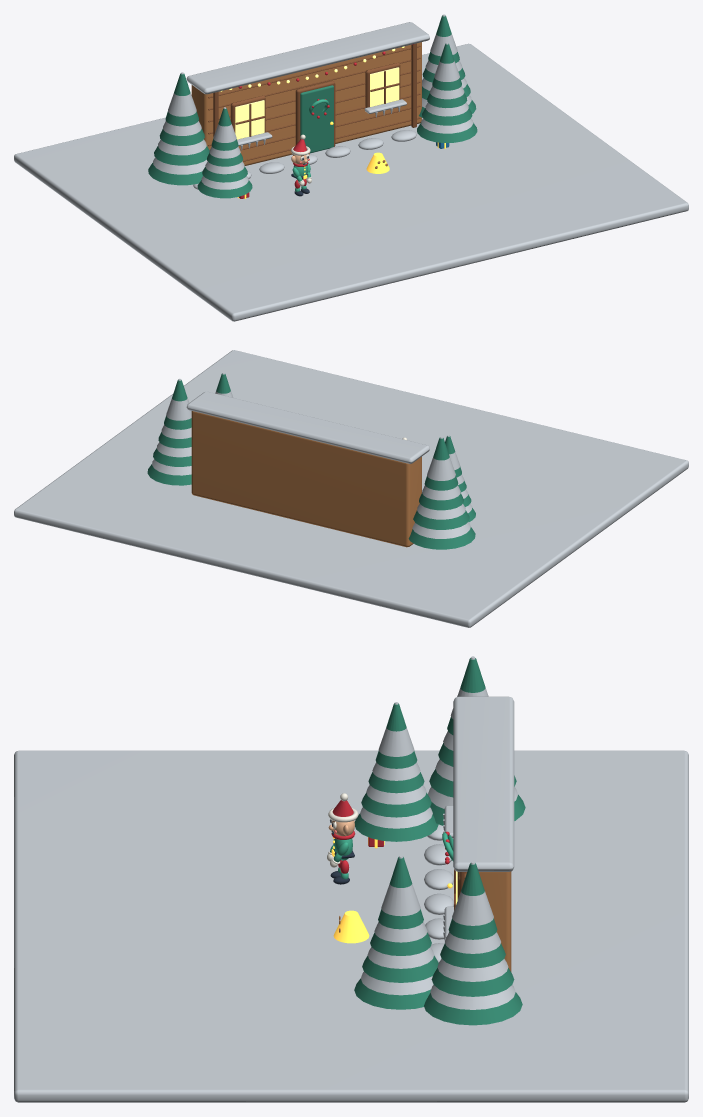
File: chapter-14.glb
3 views of the same model, one above another, from view 1: azimuth 30°, elevation 25°; view 2: azimuth 150°, elevation 25°; view 3: azimuth 270°, elevation 25° (orthographic). The views are drawn at different scales.
Visible parts, largest first — view 1: Schneeboden, Werkstatt, Schneegesims, Wichteltür, Warmes Fenster, Warmes Fenster.001, Tannenzweig.004, Tannenzweig.008, Tannenzweig.009, Türrahmen, Tannenzweig.011, Schnee.011 (+7 smaller); view 2: Schneeboden, Werkstatt, Schneegesims, Tannenzweig.008, Tannenzweig.009, Tannenzweig.011, Schnee.008, Schnee.011, Tannenzweig.015, Tannenzweig.012, Tannenzweig.010, Schnee.009 (+1 smaller); view 3: Schneeboden, Schneegesims, Werkstatt, Tannenzweig.012, Tannenzweig.013, Tannenzweig.015, Tannenzweig, Schnee.012, Tannenzweig.005, Tannenzweig.004, Schnee.015, Tannenzweig.007 (+16 smaller).
Part boxes in pixels (box(x1,y1,x2,y2)): Schneeboden: box(14, 43, 688, 321); Werkstatt: box(191, 42, 421, 165); Schneegesims: box(186, 22, 429, 94); Wichteltür: box(300, 85, 333, 153); Warmes Fenster: box(235, 100, 264, 139); Warmes Fenster.001: box(370, 67, 399, 106); Tannenzweig.004: box(417, 122, 477, 142); Tannenzweig.008: box(148, 163, 202, 185); Tannenzweig.009: box(154, 146, 209, 165); Türrahmen: box(295, 81, 335, 146); Tannenzweig.011: box(165, 73, 198, 126); Schnee.011: box(168, 72, 196, 116); Schneeboden: box(14, 350, 688, 627); Werkstatt: box(191, 411, 421, 547); Schneegesims: box(186, 391, 429, 463); Tannenzweig.008: box(408, 527, 475, 549); Tannenzweig.009: box(413, 510, 469, 529); Tannenzweig.011: box(424, 437, 458, 490); Schnee.008: box(412, 522, 470, 538); Schnee.011: box(427, 436, 455, 480); Tannenzweig.015: box(164, 380, 191, 429); Tannenzweig.012: box(147, 464, 191, 485); Tannenzweig.010: box(419, 493, 463, 510); Schnee.009: box(417, 504, 465, 519); Schneeboden: box(14, 750, 688, 1102); Schneegesims: box(453, 696, 514, 871); Werkstatt: box(466, 871, 511, 971); Tannenzweig.012: box(424, 992, 522, 1025); Tannenzweig.013: box(431, 968, 514, 996); Tannenzweig.015: box(448, 863, 497, 939); Tannenzweig: box(354, 813, 438, 841); Schnee.012: box(430, 985, 515, 1009); Tannenzweig.005: box(362, 955, 438, 982); Tannenzweig.004: box(354, 978, 430, 1009); Schnee.015: box(452, 861, 493, 925); Tannenzweig.007: box(378, 857, 423, 929).
Bounding box in the file's own units: 18 × 4.39 × 15.
